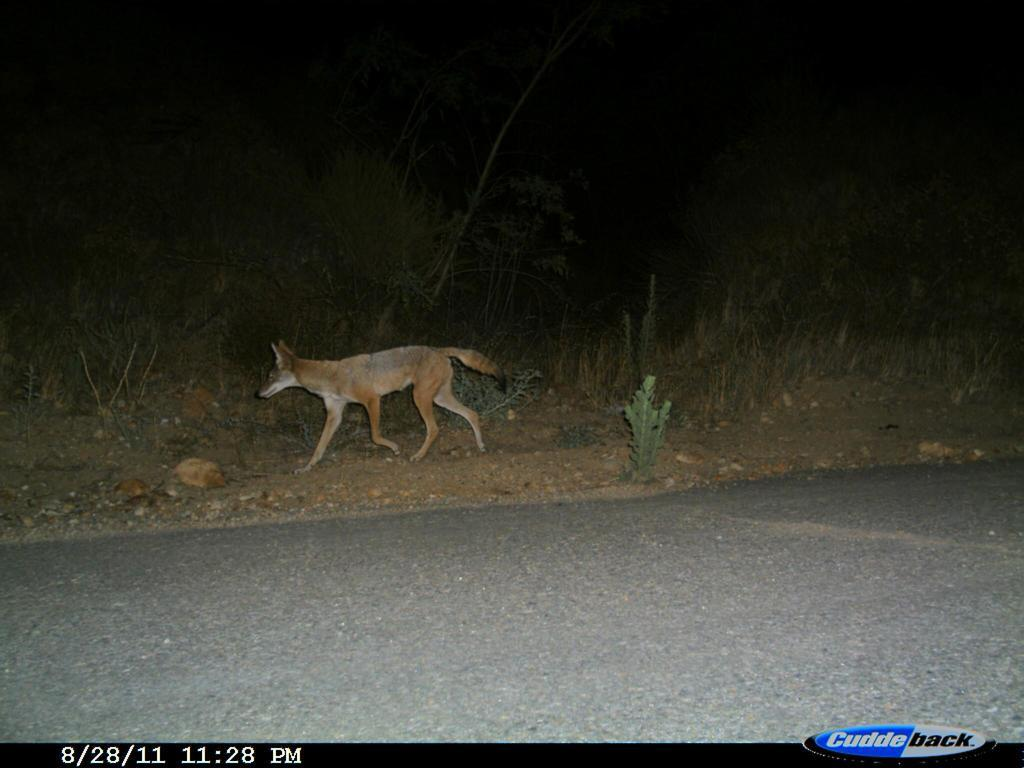coyote: (260, 338, 509, 469)
